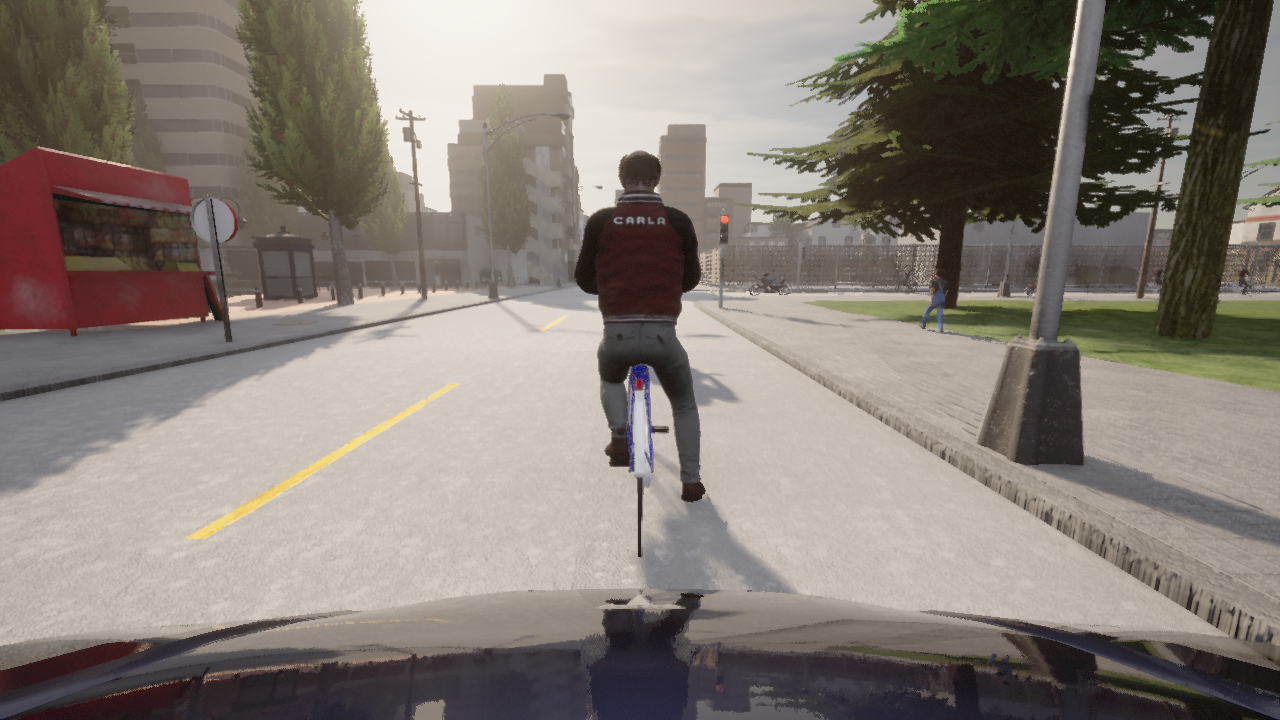cyclist: (0, 588, 1279, 719), (609, 364, 668, 557), (748, 273, 789, 295), (1225, 277, 1259, 295), (886, 280, 916, 292), (841, 268, 864, 281), (736, 266, 755, 281), (800, 271, 820, 281), (1144, 282, 1159, 295), (1024, 280, 1036, 295), (773, 270, 792, 279), (877, 269, 893, 278), (865, 271, 878, 281), (773, 273, 787, 279)
pedestrian: (918, 268, 949, 334), (556, 270, 557, 274)
